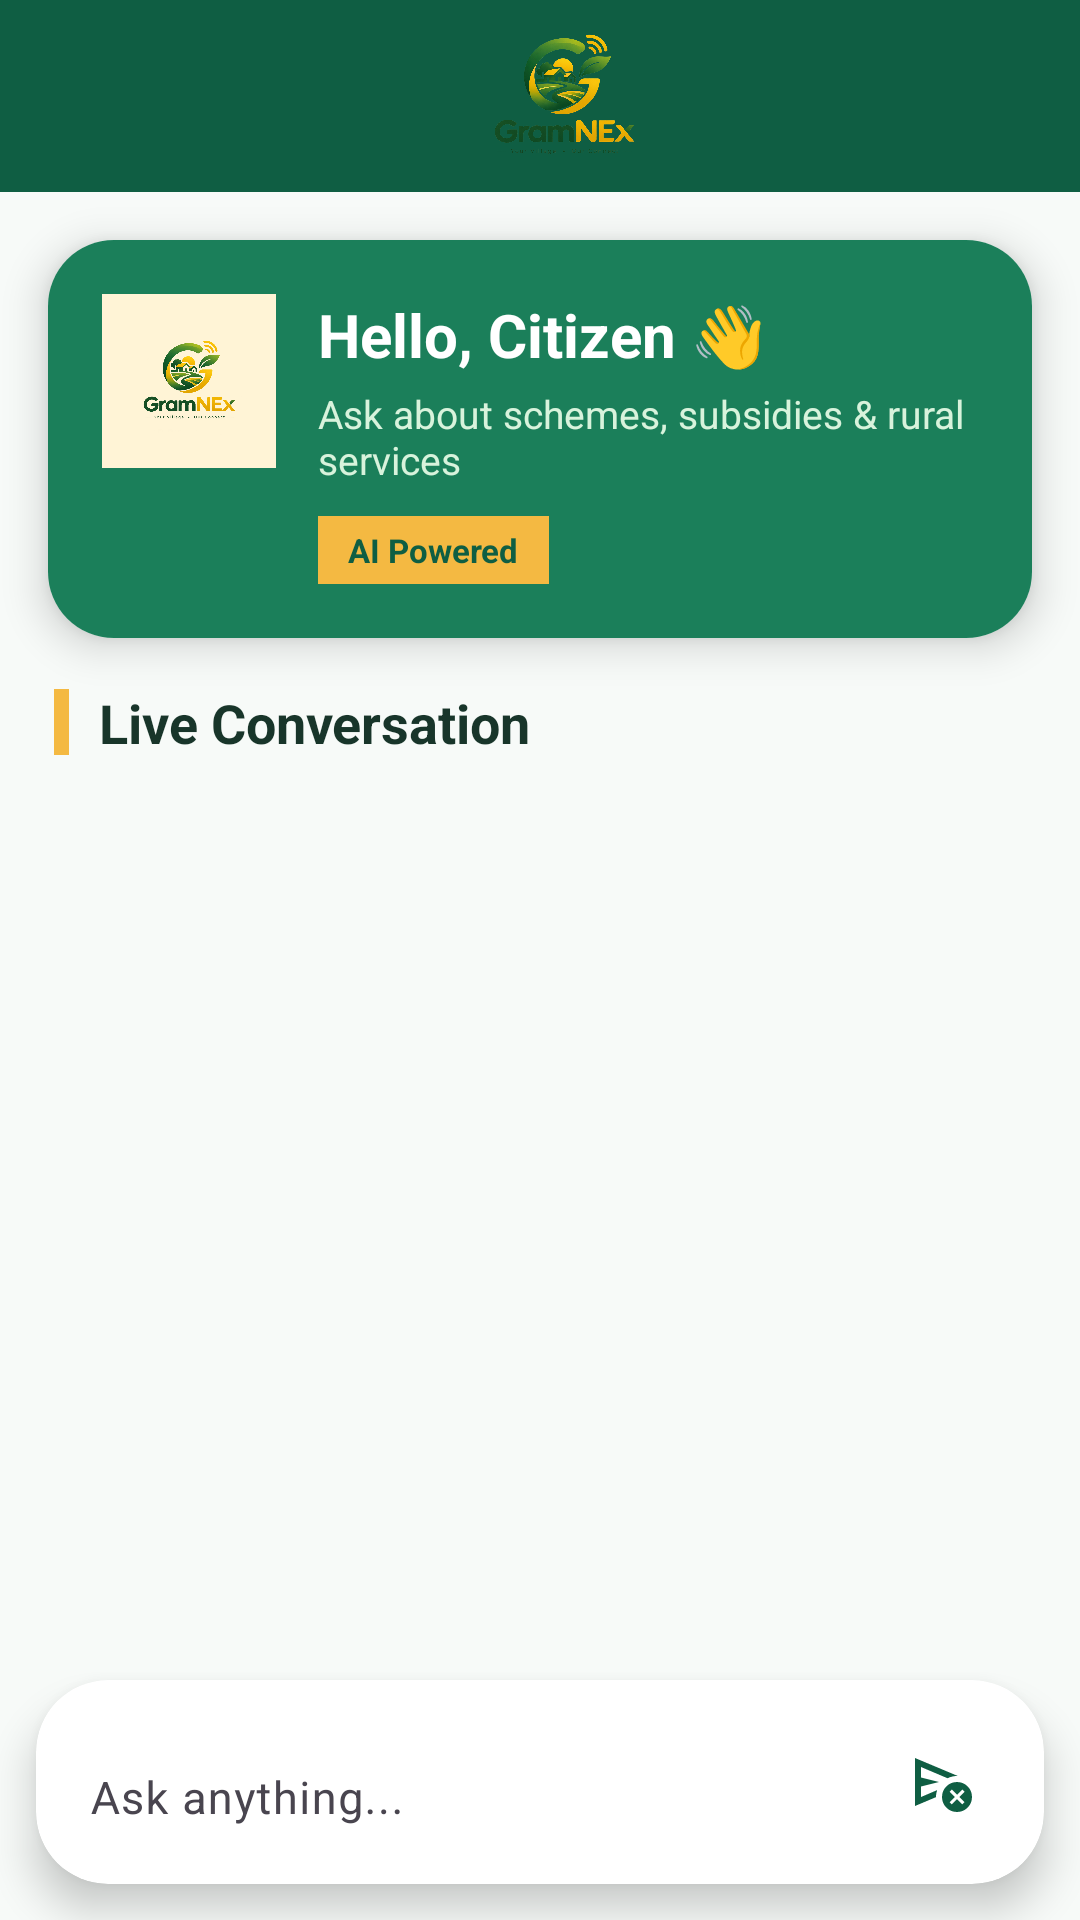

Screen size 1080×1920. Icon name, then its center in pixels as (x=x, y=y):
send: (x=943, y=1785)
